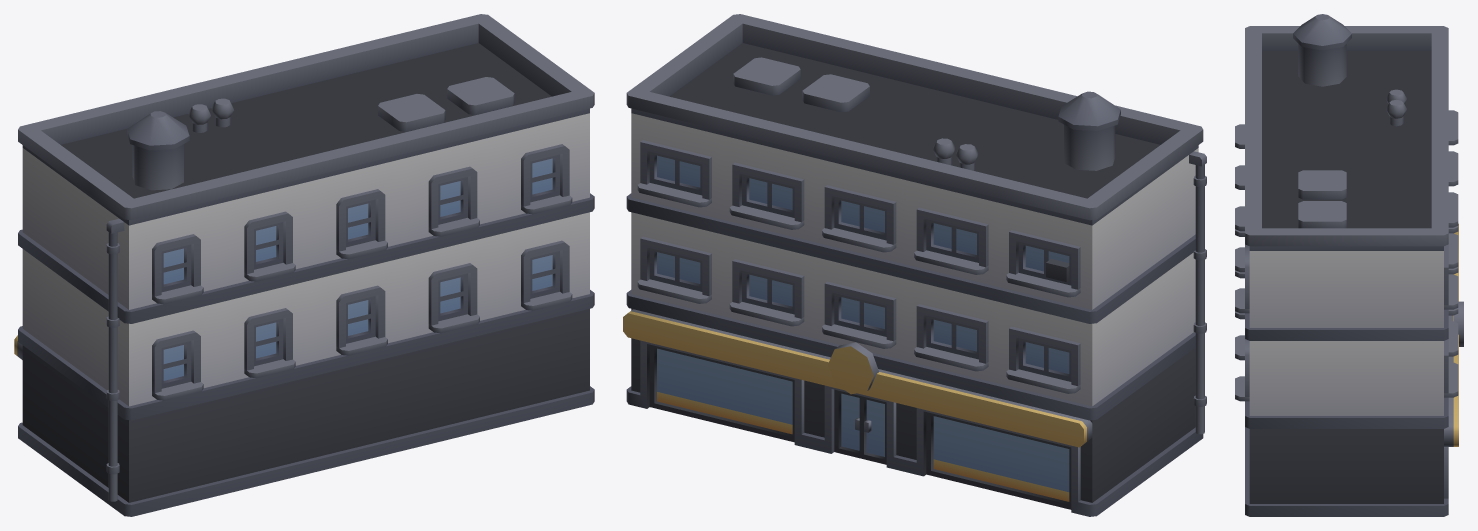
The model's file is cafe-01.glb.
3 views of the same model, side by side, from view 1: azimuth 30°, elevation 25°; view 2: azimuth 150°, elevation 25°; view 3: azimuth 270°, elevation 25° (orthographic). The views are drawn at different scales.
Parts seen in each view (by area): view 1: cafe-01; view 2: cafe-01; view 3: cafe-01.
Boxes of the visible parts, bbox=[...] form: cafe-01: bbox=[14, 14, 594, 516]; cafe-01: bbox=[623, 14, 1206, 516]; cafe-01: bbox=[1235, 14, 1463, 516].
Size of the model in its own units: 1 by 0.7055 by 0.4521.
